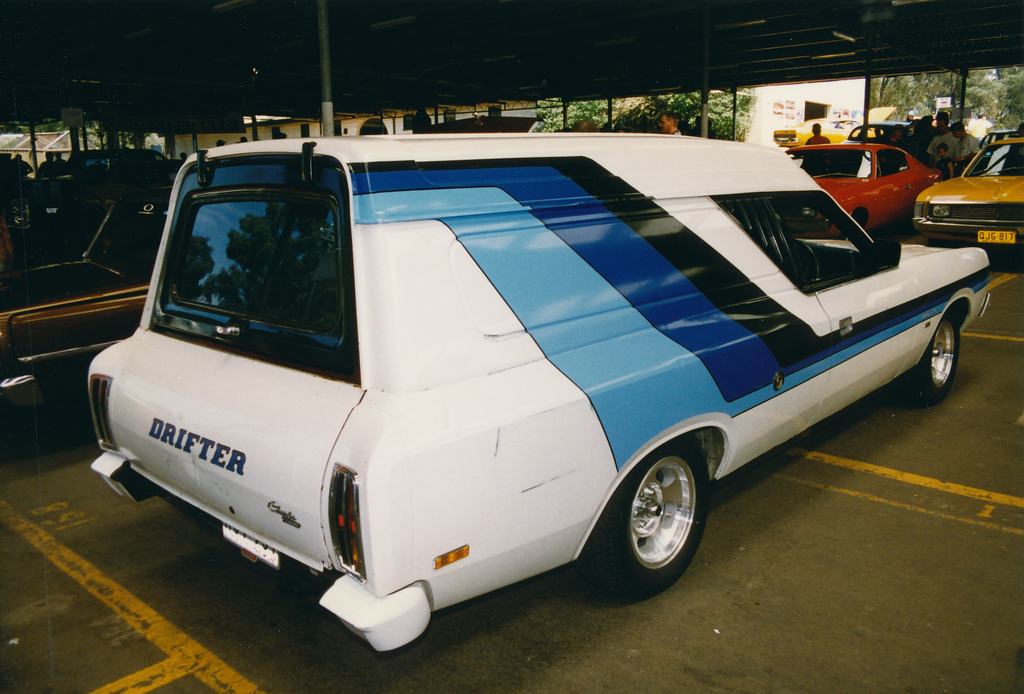Car: (0, 110, 540, 441), (785, 141, 944, 230), (908, 136, 1023, 259), (840, 119, 912, 140), (979, 125, 1013, 151)
